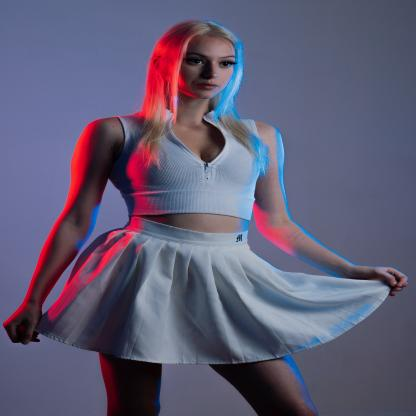jacket: (20, 214, 396, 378), (104, 108, 270, 222)
